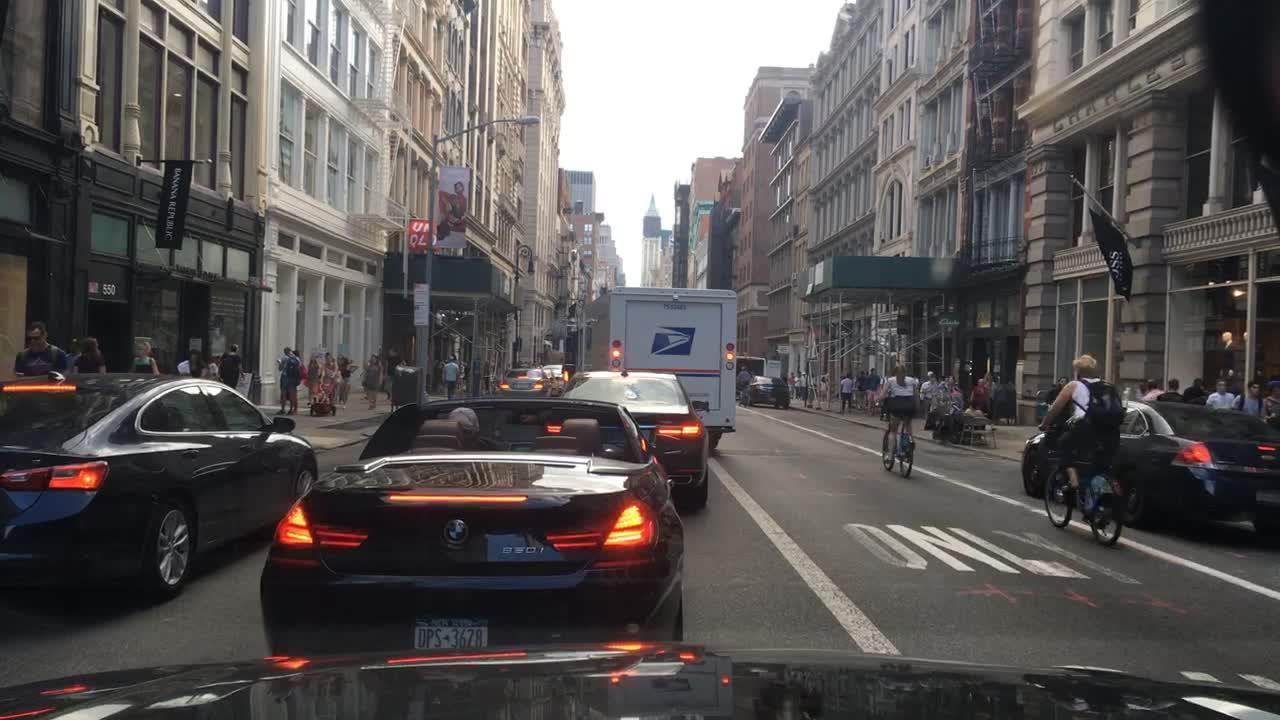bmw: (440, 510, 479, 551)
